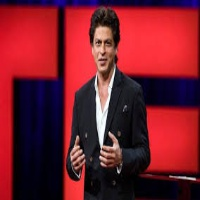ring: (72, 152, 88, 165), (96, 155, 116, 165)
